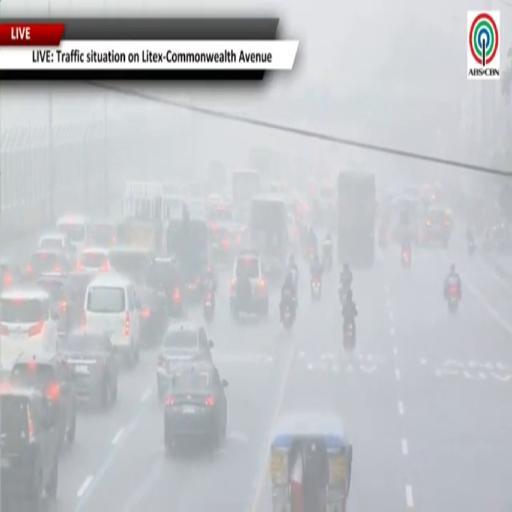car: (0, 383, 59, 511), (9, 354, 76, 449), (164, 361, 227, 454), (83, 272, 140, 366), (0, 286, 58, 371), (61, 328, 118, 408), (157, 324, 214, 398), (36, 274, 81, 335), (230, 251, 269, 317), (146, 256, 184, 317), (137, 285, 168, 346), (109, 247, 152, 282), (26, 249, 72, 279), (210, 222, 241, 265), (56, 215, 89, 252), (77, 247, 110, 274), (38, 231, 75, 254), (89, 220, 117, 247), (0, 259, 20, 291)
motorcycle: (203, 290, 215, 323), (343, 320, 355, 351), (447, 284, 459, 313), (282, 304, 294, 330), (339, 285, 350, 307), (311, 277, 321, 301), (323, 246, 332, 271), (379, 227, 389, 249), (402, 249, 411, 268), (468, 239, 476, 255)
truck: (337, 171, 376, 268)
